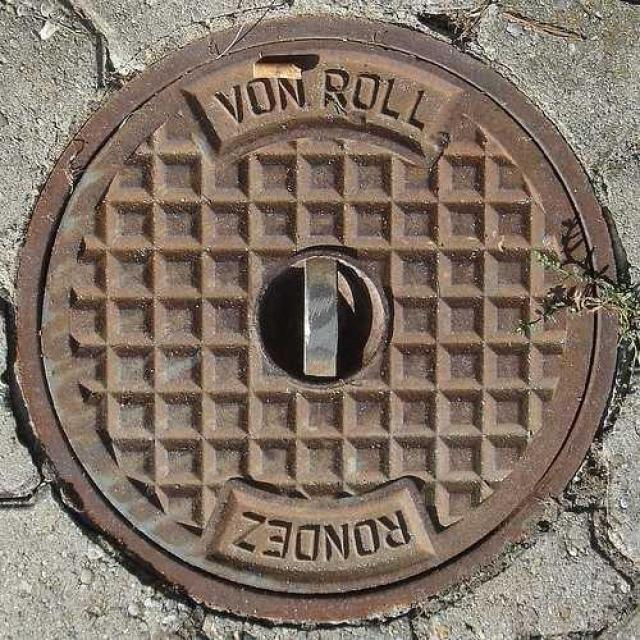manhole: (15, 16, 618, 624)
